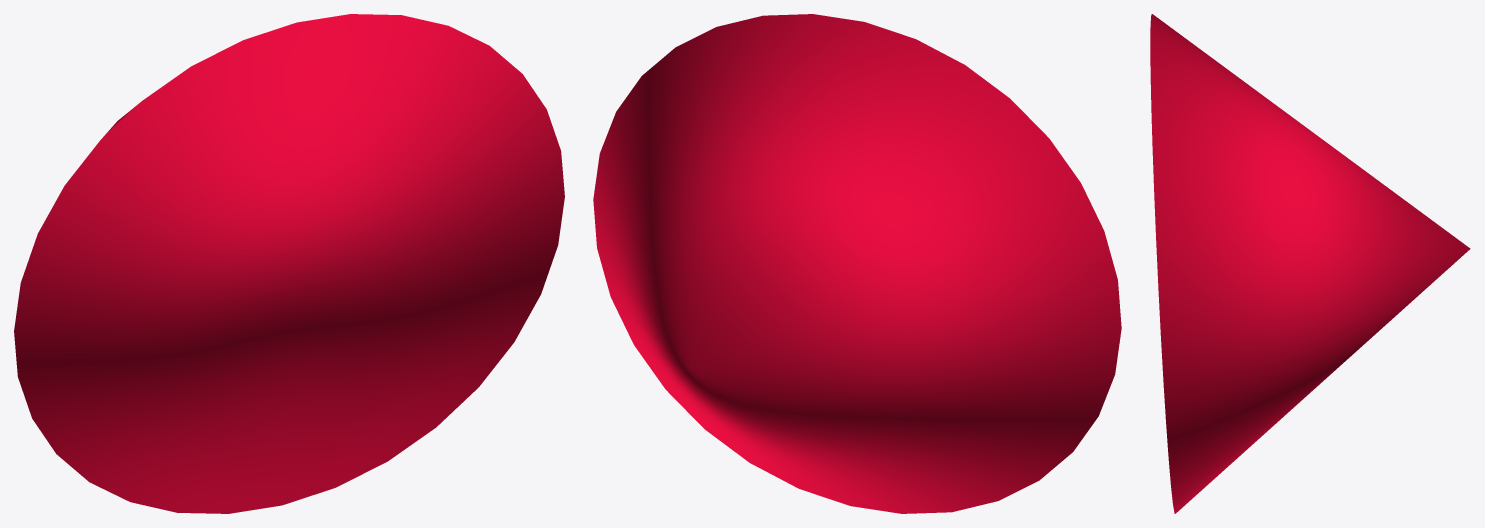
Rendered from EnemyLineOfSight.fbx.
3 renders of one model, left to right at view 1: azimuth 30°, elevation 25°; view 2: azimuth 150°, elevation 25°; view 3: azimuth 270°, elevation 25°, orthographic. The views are drawn at different scales.
Visible parts, largest first — view 1: Cone; view 2: Cone; view 3: Cone.
Boxes of the visible parts, <box> form: Cone: <box>14,14,564,513</box>; Cone: <box>593,14,1121,513</box>; Cone: <box>1150,14,1470,513</box>.
Bounding box in the file's own units: 373 × 320 × 211.
